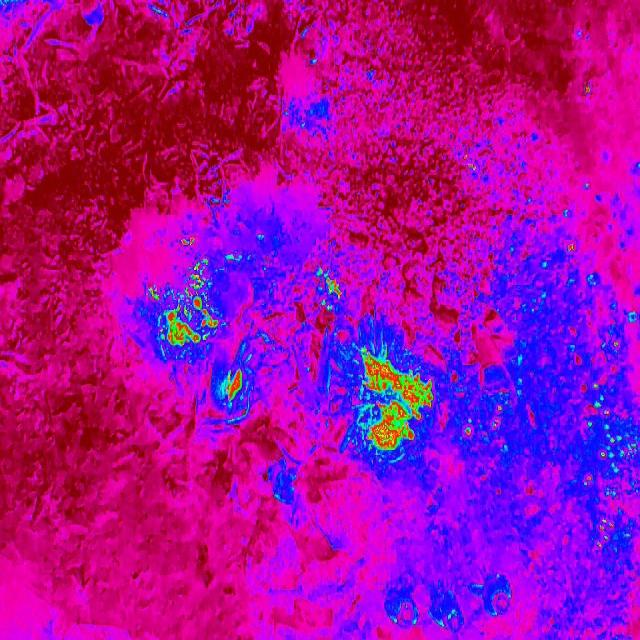fire: (575, 332, 640, 558), (352, 346, 436, 456), (148, 262, 221, 350), (462, 404, 505, 440), (314, 270, 344, 312), (221, 364, 246, 404), (558, 238, 578, 258), (576, 82, 592, 100), (178, 235, 196, 250)
